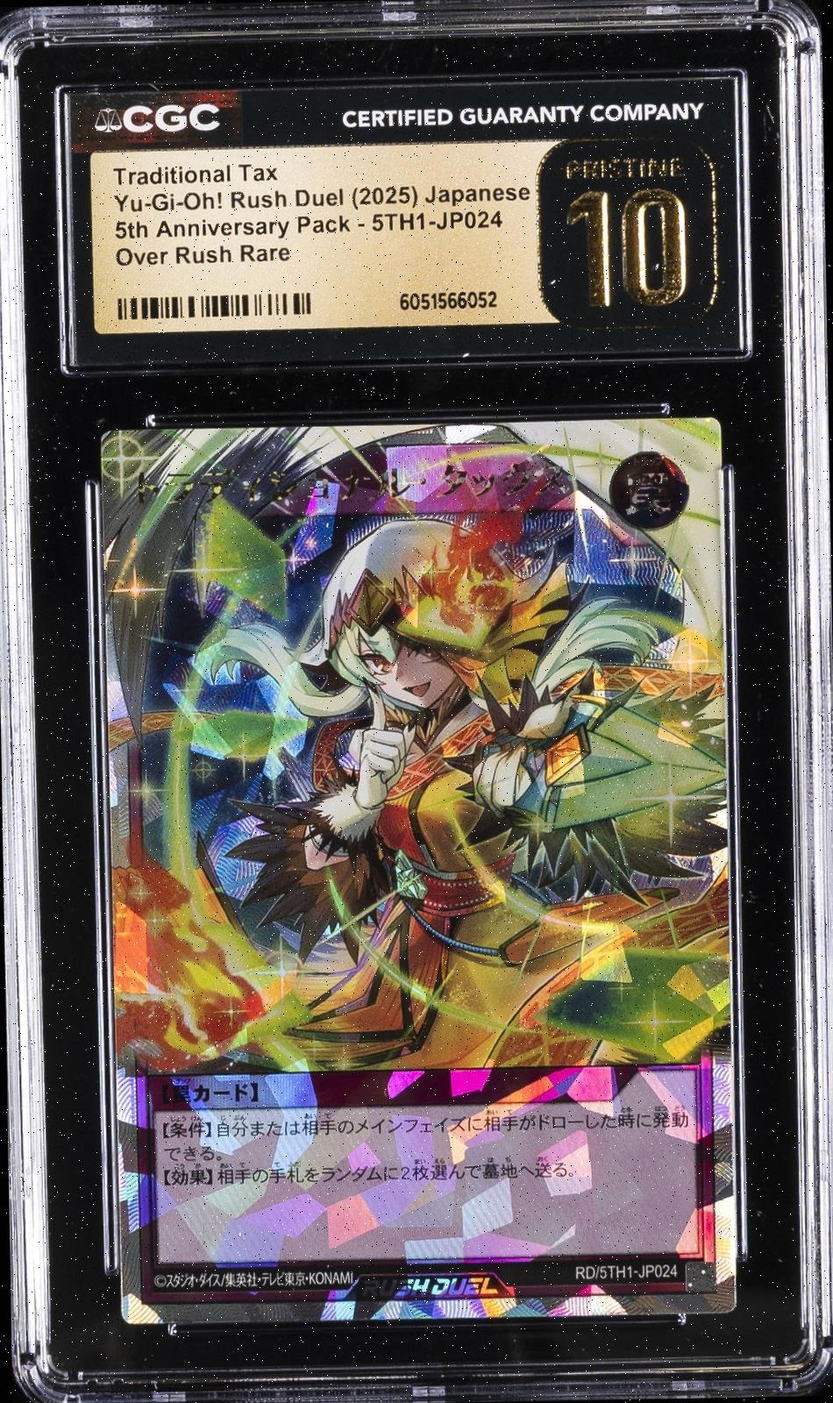card-2UtV: (100, 417, 737, 1325)
